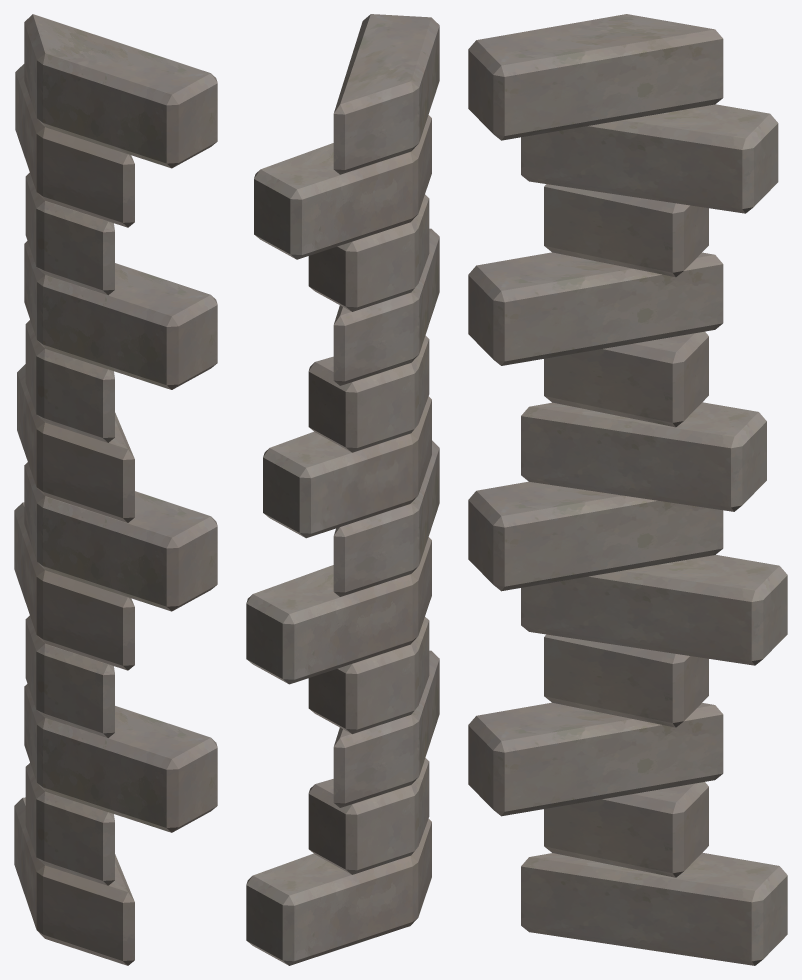
The model's file is SM_Corner_Big_Tower_M.fbx.
3 views of the same model, side by side, from view 1: azimuth 30°, elevation 25°; view 2: azimuth 150°, elevation 25°; view 3: azimuth 270°, elevation 25° (orthographic). The views are drawn at different scales.
Parts seen in each view (by area): view 1: SM_Corner_Big_Tower_M_LOD0; view 2: SM_Corner_Big_Tower_M_LOD0; view 3: SM_Corner_Big_Tower_M_LOD0.
Part boxes in pixels (x1,y1,x2,y2): SM_Corner_Big_Tower_M_LOD0: [14, 14, 217, 965]; SM_Corner_Big_Tower_M_LOD0: [246, 14, 439, 965]; SM_Corner_Big_Tower_M_LOD0: [468, 14, 787, 965].
Size of the model in its own units: 83.09 by 193 by 600.
Materials: 1 (1 with a texture image).
